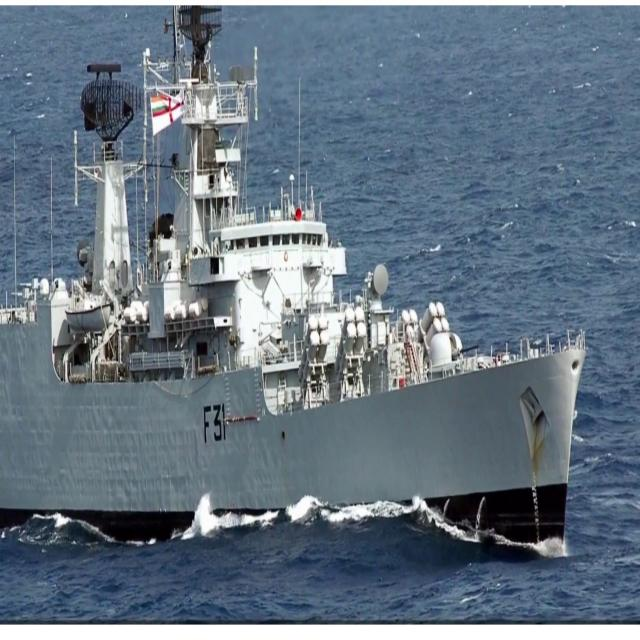OCR: (201, 396, 227, 449)
